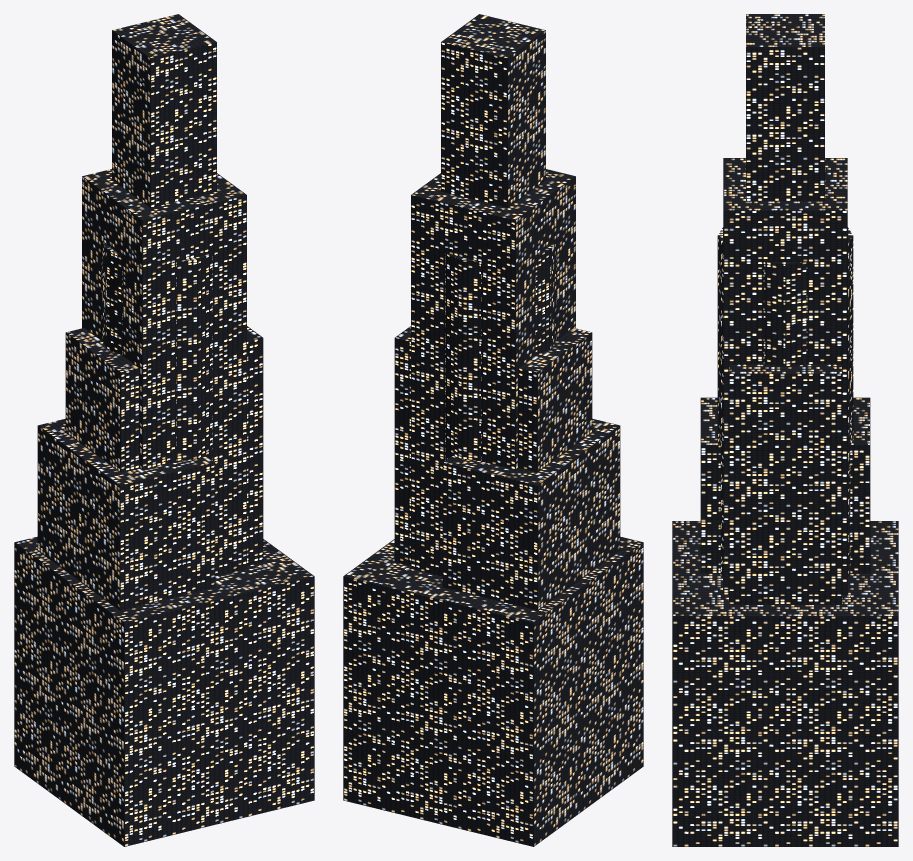
Rendered from skyline.glb.
3 views of the same model, side by side, from view 1: azimuth 30°, elevation 25°; view 2: azimuth 150°, elevation 25°; view 3: azimuth 270°, elevation 25° (orthographic). The views are drawn at different scales.
Parts seen in each view (by area): view 1: Skyline; view 2: Skyline; view 3: Skyline.
Part boxes in pixels (box(x1,y1,x2,y2)): Skyline: box(14, 14, 314, 846); Skyline: box(343, 14, 643, 846); Skyline: box(672, 14, 898, 846).
Size of the model in its own units: 40 by 150 by 40.
1 material, 1 textured.
